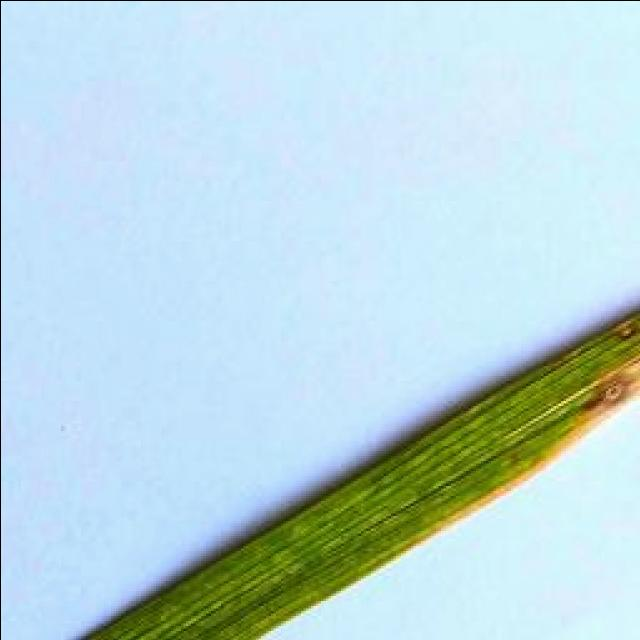Unhealthy: (427, 346, 640, 531), (613, 314, 638, 337)
